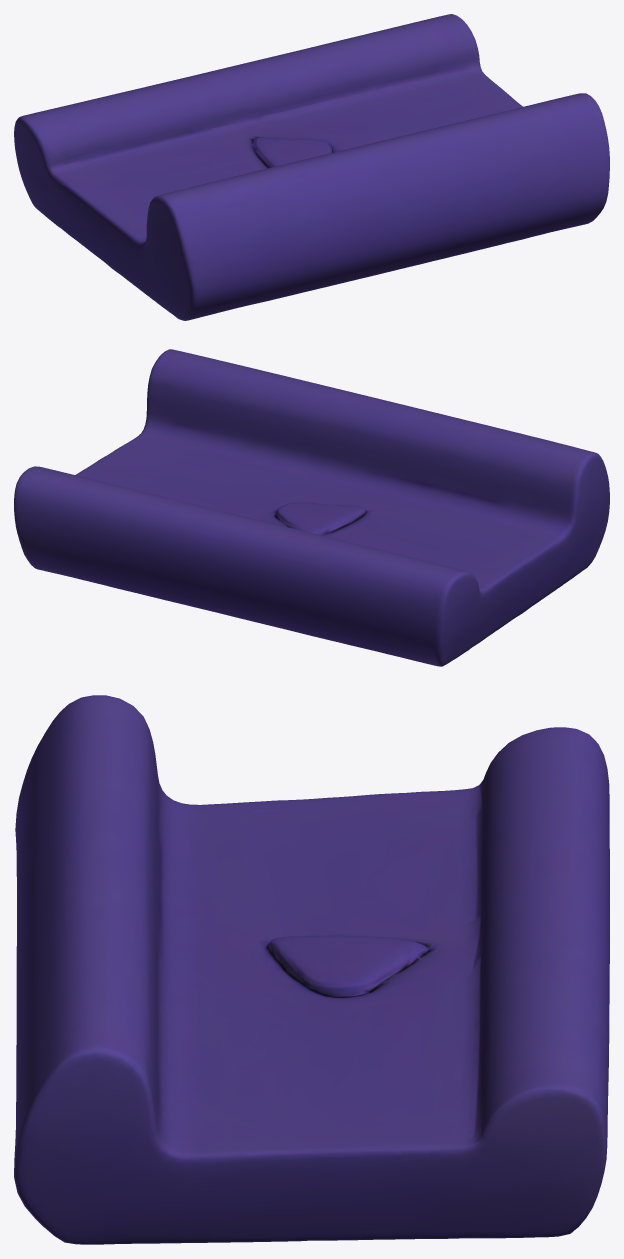
The model's file is track.glb.
The picture shows the model from 3 angles, top to bottom: view 1: azimuth 30°, elevation 25°; view 2: azimuth 150°, elevation 25°; view 3: azimuth 270°, elevation 25°; orthographic projection. The views are drawn at different scales.
Parts seen in each view (by area): view 1: track; view 2: track; view 3: track.
Boxes of the visible parts, x1,y1,x2,y2 form: track: [14, 14, 609, 320]; track: [14, 349, 609, 666]; track: [14, 695, 609, 1244].
Size of the model in its own units: 1 by 0.2657 by 0.695.
